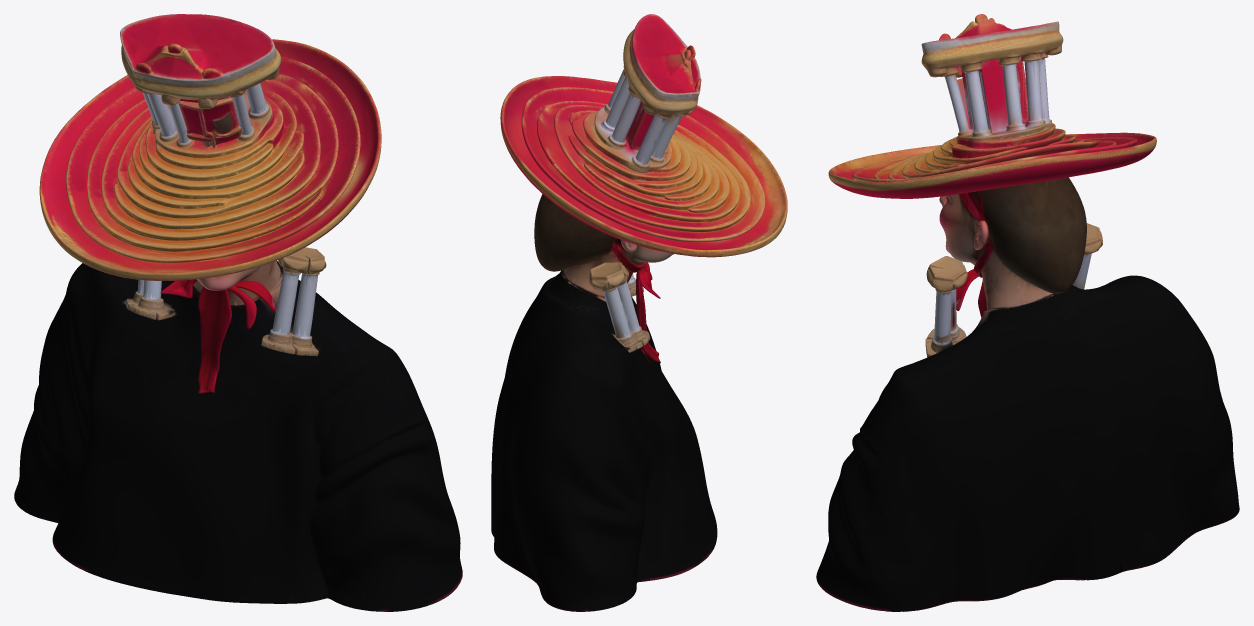
The picture shows the model from 3 angles, left to right: view 1: azimuth 30°, elevation 25°; view 2: azimuth 150°, elevation 25°; view 3: azimuth 270°, elevation 25°; orthographic projection. The views are drawn at different scales.
Parts seen in each view (by area): view 1: material; view 2: material; view 3: material.
Part boxes in pixels (bbox=[...]): material: bbox=[14, 14, 462, 611]; material: bbox=[491, 14, 787, 611]; material: bbox=[816, 14, 1239, 611].
Size of the model in its own units: 0.5784 by 0.9046 by 0.6931.
Materials: 1 (1 with a texture image).
